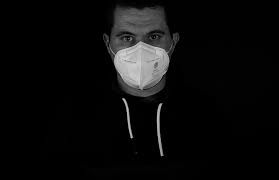with-mask: (104, 4, 183, 97)
